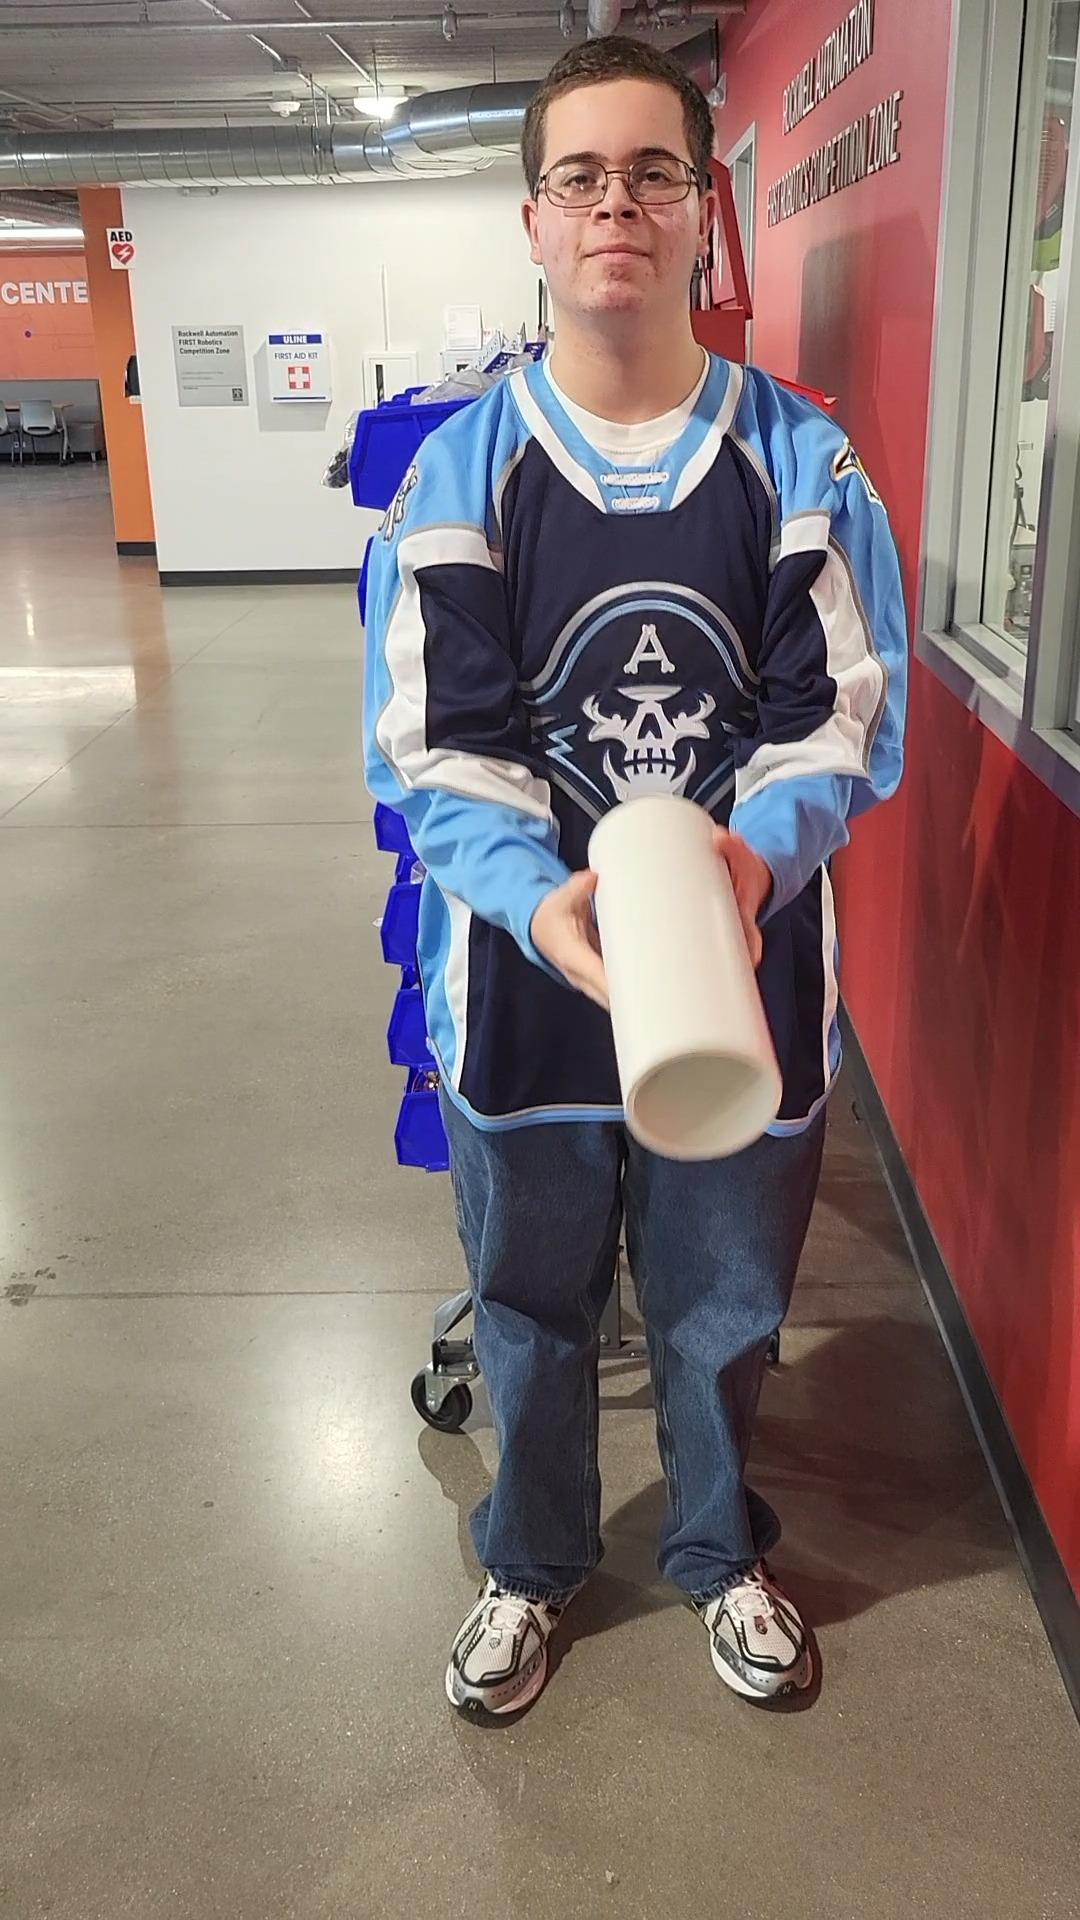coral: (583, 798, 787, 1170)
